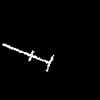double_crochet: (2, 44, 53, 70)
